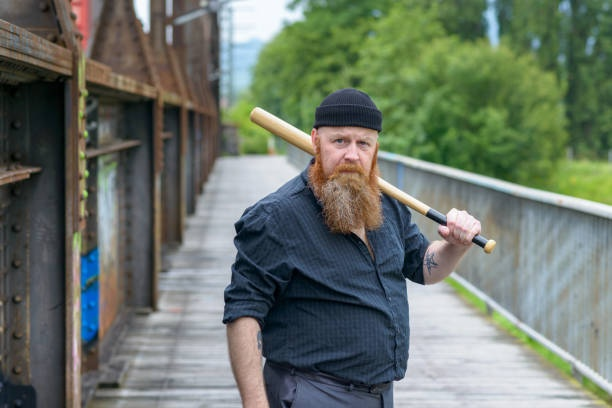bita: (378, 182, 496, 253), (250, 107, 319, 165)
